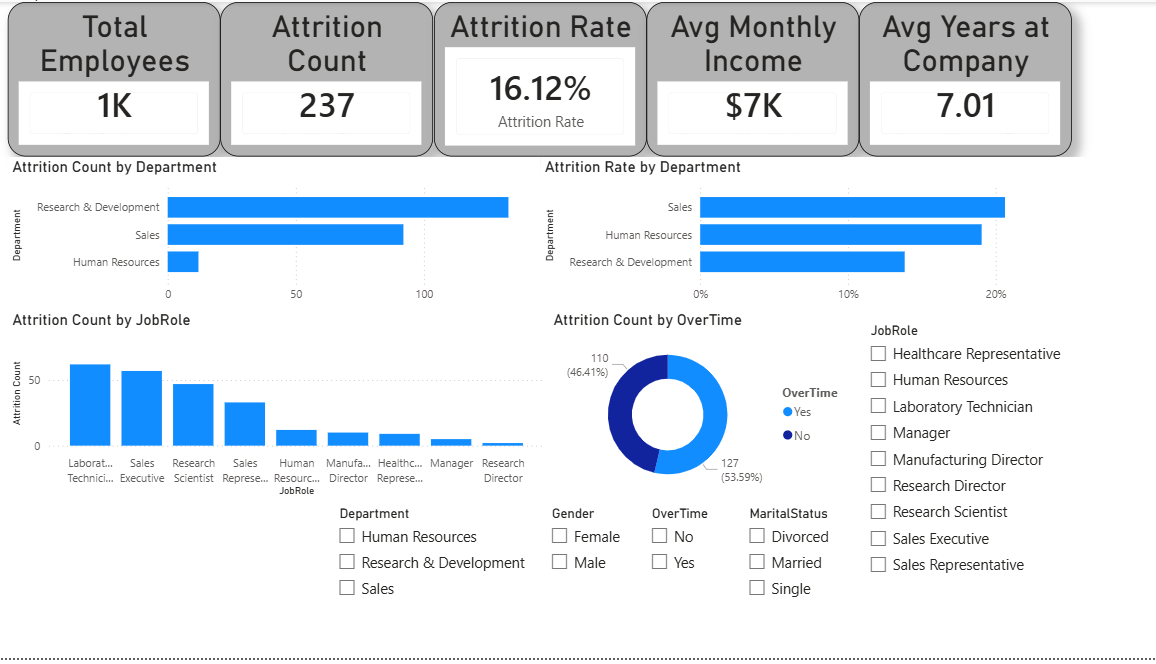

The dashboard page shown, as its layout file describes it:
{"tool":"powerbi","page":{"name":"Executive Overview","canvas":[1280,720],"ordinal":0},"visuals":[{"type":"cardVisual","title":"Total Employees","fields":{"Data":["Employees.Total Employees"]},"box":[9.8,0,233.6,170],"z":0},{"type":"cardVisual","title":"Attrition Count","fields":{"Data":["Employees.Attrition Count"]},"box":[243.3,0,233.6,170],"z":1000},{"type":"cardVisual","title":"Attrition Rate","fields":{"Data":["Employees.Attrition Rate"]},"box":[476.9,0,233.6,170],"z":2000},{"type":"cardVisual","title":"Avg Monthly Income","fields":{"Data":["Employees.Average Monthly Income"]},"box":[710.5,0,233.6,170],"z":3000},{"type":"cardVisual","title":"Avg Years at Company","fields":{"Data":["Employees.Average Years at Company"]},"box":[944,0,233.6,170],"z":4000},{"type":"clusteredBarChart","fields":{"Category":["Employees.Department"],"Y":["Employees.Attrition Count"]},"box":[9.8,170,584.5,168.8],"z":5000},{"type":"clusteredBarChart","fields":{"Category":["Employees.Department"],"Y":["Employees.Attrition Rate"]},"box":[594.2,170.2,598.3,168.8],"z":6000},{"type":"clusteredColumnChart","fields":{"Category":["Employees.JobRole"],"Y":["Employees.Attrition Count"]},"box":[9.8,338.7,594.3,209.1],"z":7000},{"type":"donutChart","fields":{"Category":["Employees.OverTime"],"Y":["Employees.Attrition Count"]},"box":[604.1,338.7,339.9,209.1],"z":8000},{"type":"slicer","fields":{"Values":["Employees.Department"]},"box":[360.7,547.8,233.6,116.2],"z":9000},{"type":"slicer","fields":{"Values":["Employees.JobRole"]},"box":[944,347.3,232.3,326.5],"z":10000},{"type":"slicer","fields":{"Values":["Employees.Gender"]},"box":[594.3,547.8,106.4,94.2],"z":11000},{"type":"slicer","fields":{"Values":["Employees.OverTime"]},"box":[704.4,547.8,106.4,94.2],"z":12000},{"type":"slicer","fields":{"Values":["Employees.MaritalStatus"]},"box":[810.7,547.8,133.3,116.2],"z":13000}]}

Visuals, with their boxes in screenshot pixels (x1, y1, x2, y2), scaled from the page's 1280x720 canvas onto the 1156x664 screenshot:
"Total Employees" cardVisual: 9:0:220:157
"Attrition Count" cardVisual: 220:0:431:157
"Attrition Rate" cardVisual: 431:0:642:157
"Avg Monthly Income" cardVisual: 642:0:853:157
"Avg Years at Company" cardVisual: 853:0:1064:157
clusteredBarChart - Employees.Department x Employees.Attrition Count: 9:157:537:312
clusteredBarChart - Employees.Department x Employees.Attrition Rate: 537:157:1077:313
clusteredColumnChart - Employees.JobRole x Employees.Attrition Count: 9:312:546:505
donutChart - Employees.OverTime x Employees.Attrition Count: 546:312:853:505
slicer - Employees.Department: 326:505:537:612
slicer - Employees.JobRole: 853:320:1062:621
slicer - Employees.Gender: 537:505:633:592
slicer - Employees.OverTime: 636:505:732:592
slicer - Employees.MaritalStatus: 732:505:853:612
